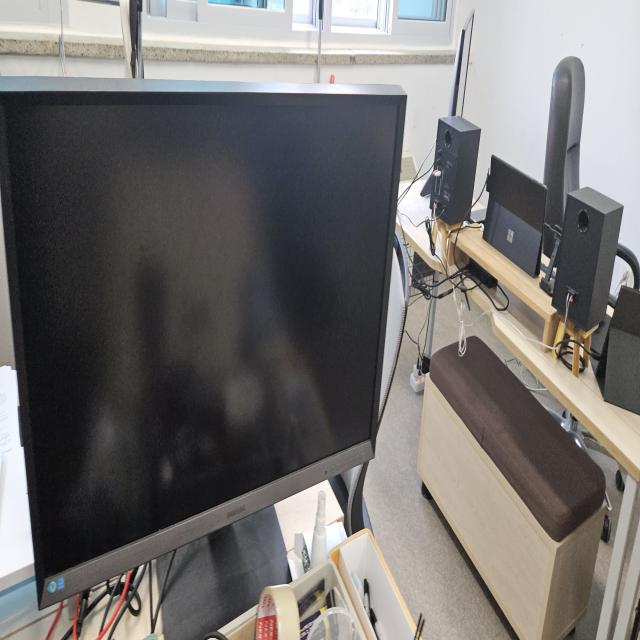Monitor: (2, 72, 408, 608)
